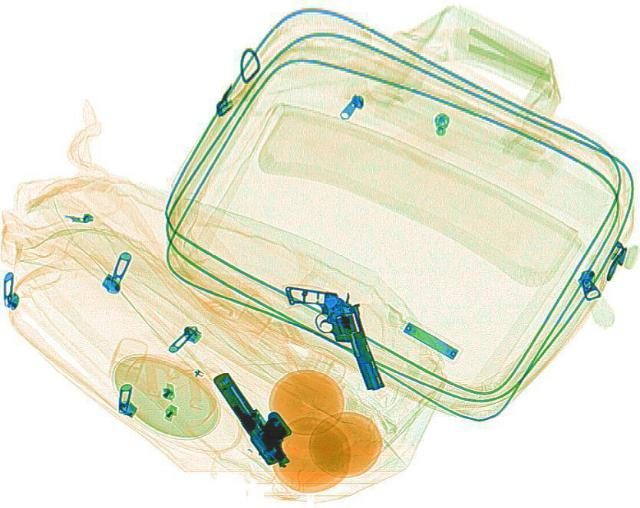Gun: (280, 272, 390, 397), (208, 363, 308, 470)
